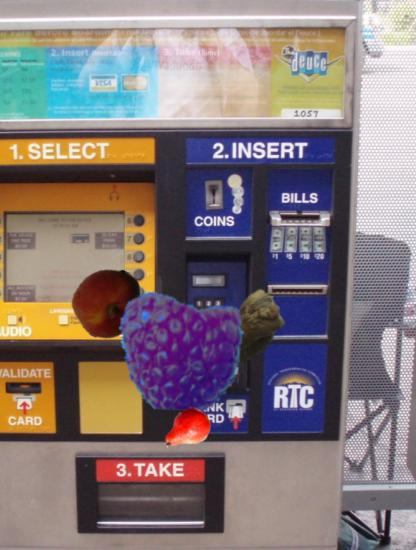Ginger: (187, 283, 290, 386)
Nectarine: (70, 266, 144, 340)
Pear: (161, 403, 212, 454)
Raspberry: (118, 289, 243, 414)
